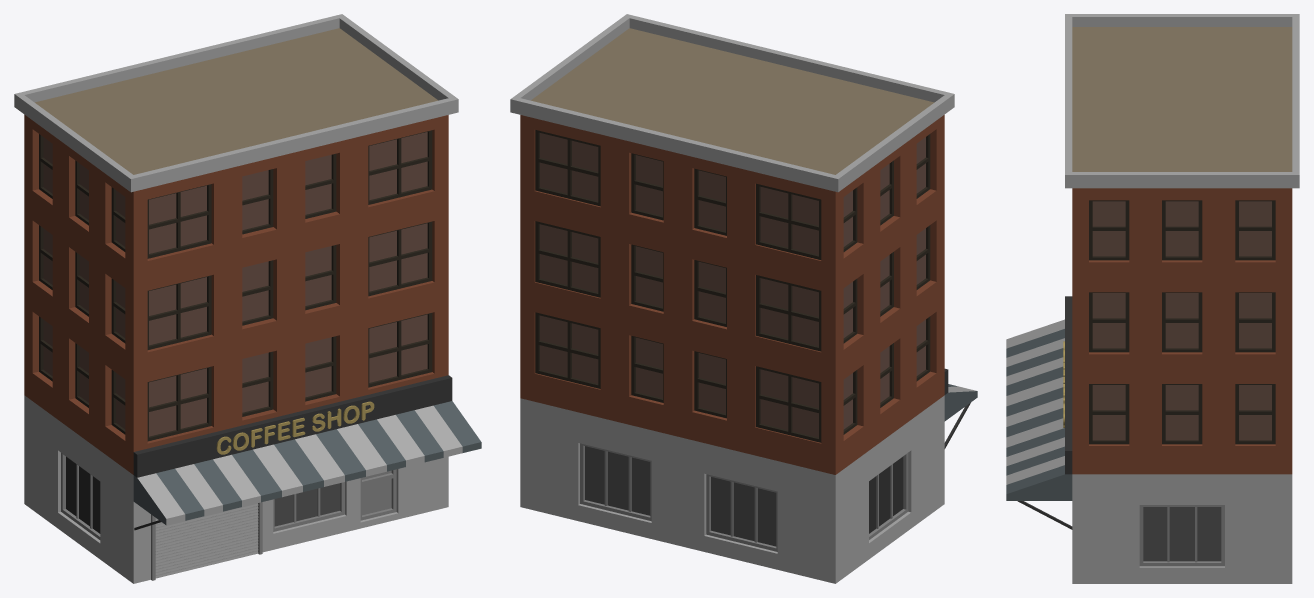
The model's file is Buiding_2.fbx.
3 renders of one model, left to right at view 1: azimuth 30°, elevation 25°; view 2: azimuth 150°, elevation 25°; view 3: azimuth 270°, elevation 25°, orthographic.
Parts seen in each view (by area): view 1: Building_3; view 2: Building_3; view 3: Building_3.
Part boxes in pixels (bbox=[...]): Building_3: bbox=[14, 14, 481, 583]; Building_3: bbox=[510, 14, 977, 583]; Building_3: bbox=[1006, 14, 1299, 583].
Size of the model in its own units: 5200 by 6200 by 4000.
